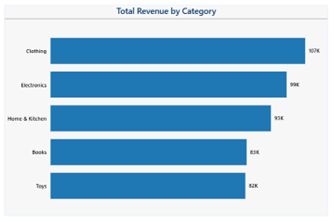

The dashboard page shown, as its layout file describes it:
{"tool":"powerbi","page":{"name":"Revenue By Category only","canvas":[1280,720],"ordinal":1},"visuals":[{"type":"barChart","fields":{"Y":["ecommerce_dataset.Total Revenue"],"Category":["ecommerce_dataset.Category"]},"box":[304,112,736,480],"z":4000}]}

Visuals, with their boxes on the page's 1280x720 design canvas (x1, y1, x2, y2). These are canvas units, not pixel positions in the 334x222 screenshot, which may show the page scaled, cropped or inside an application window:
barChart - ecommerce_dataset.Total Revenue x ecommerce_dataset.Category: <region>304, 112, 1040, 592</region>
